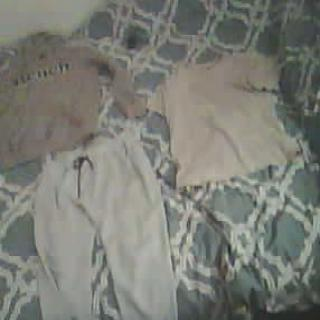White Sweatpants: (43, 147, 174, 320)
Yellow Hoodie: (0, 30, 132, 158)
Yellow T-Shirt: (148, 52, 296, 182)
